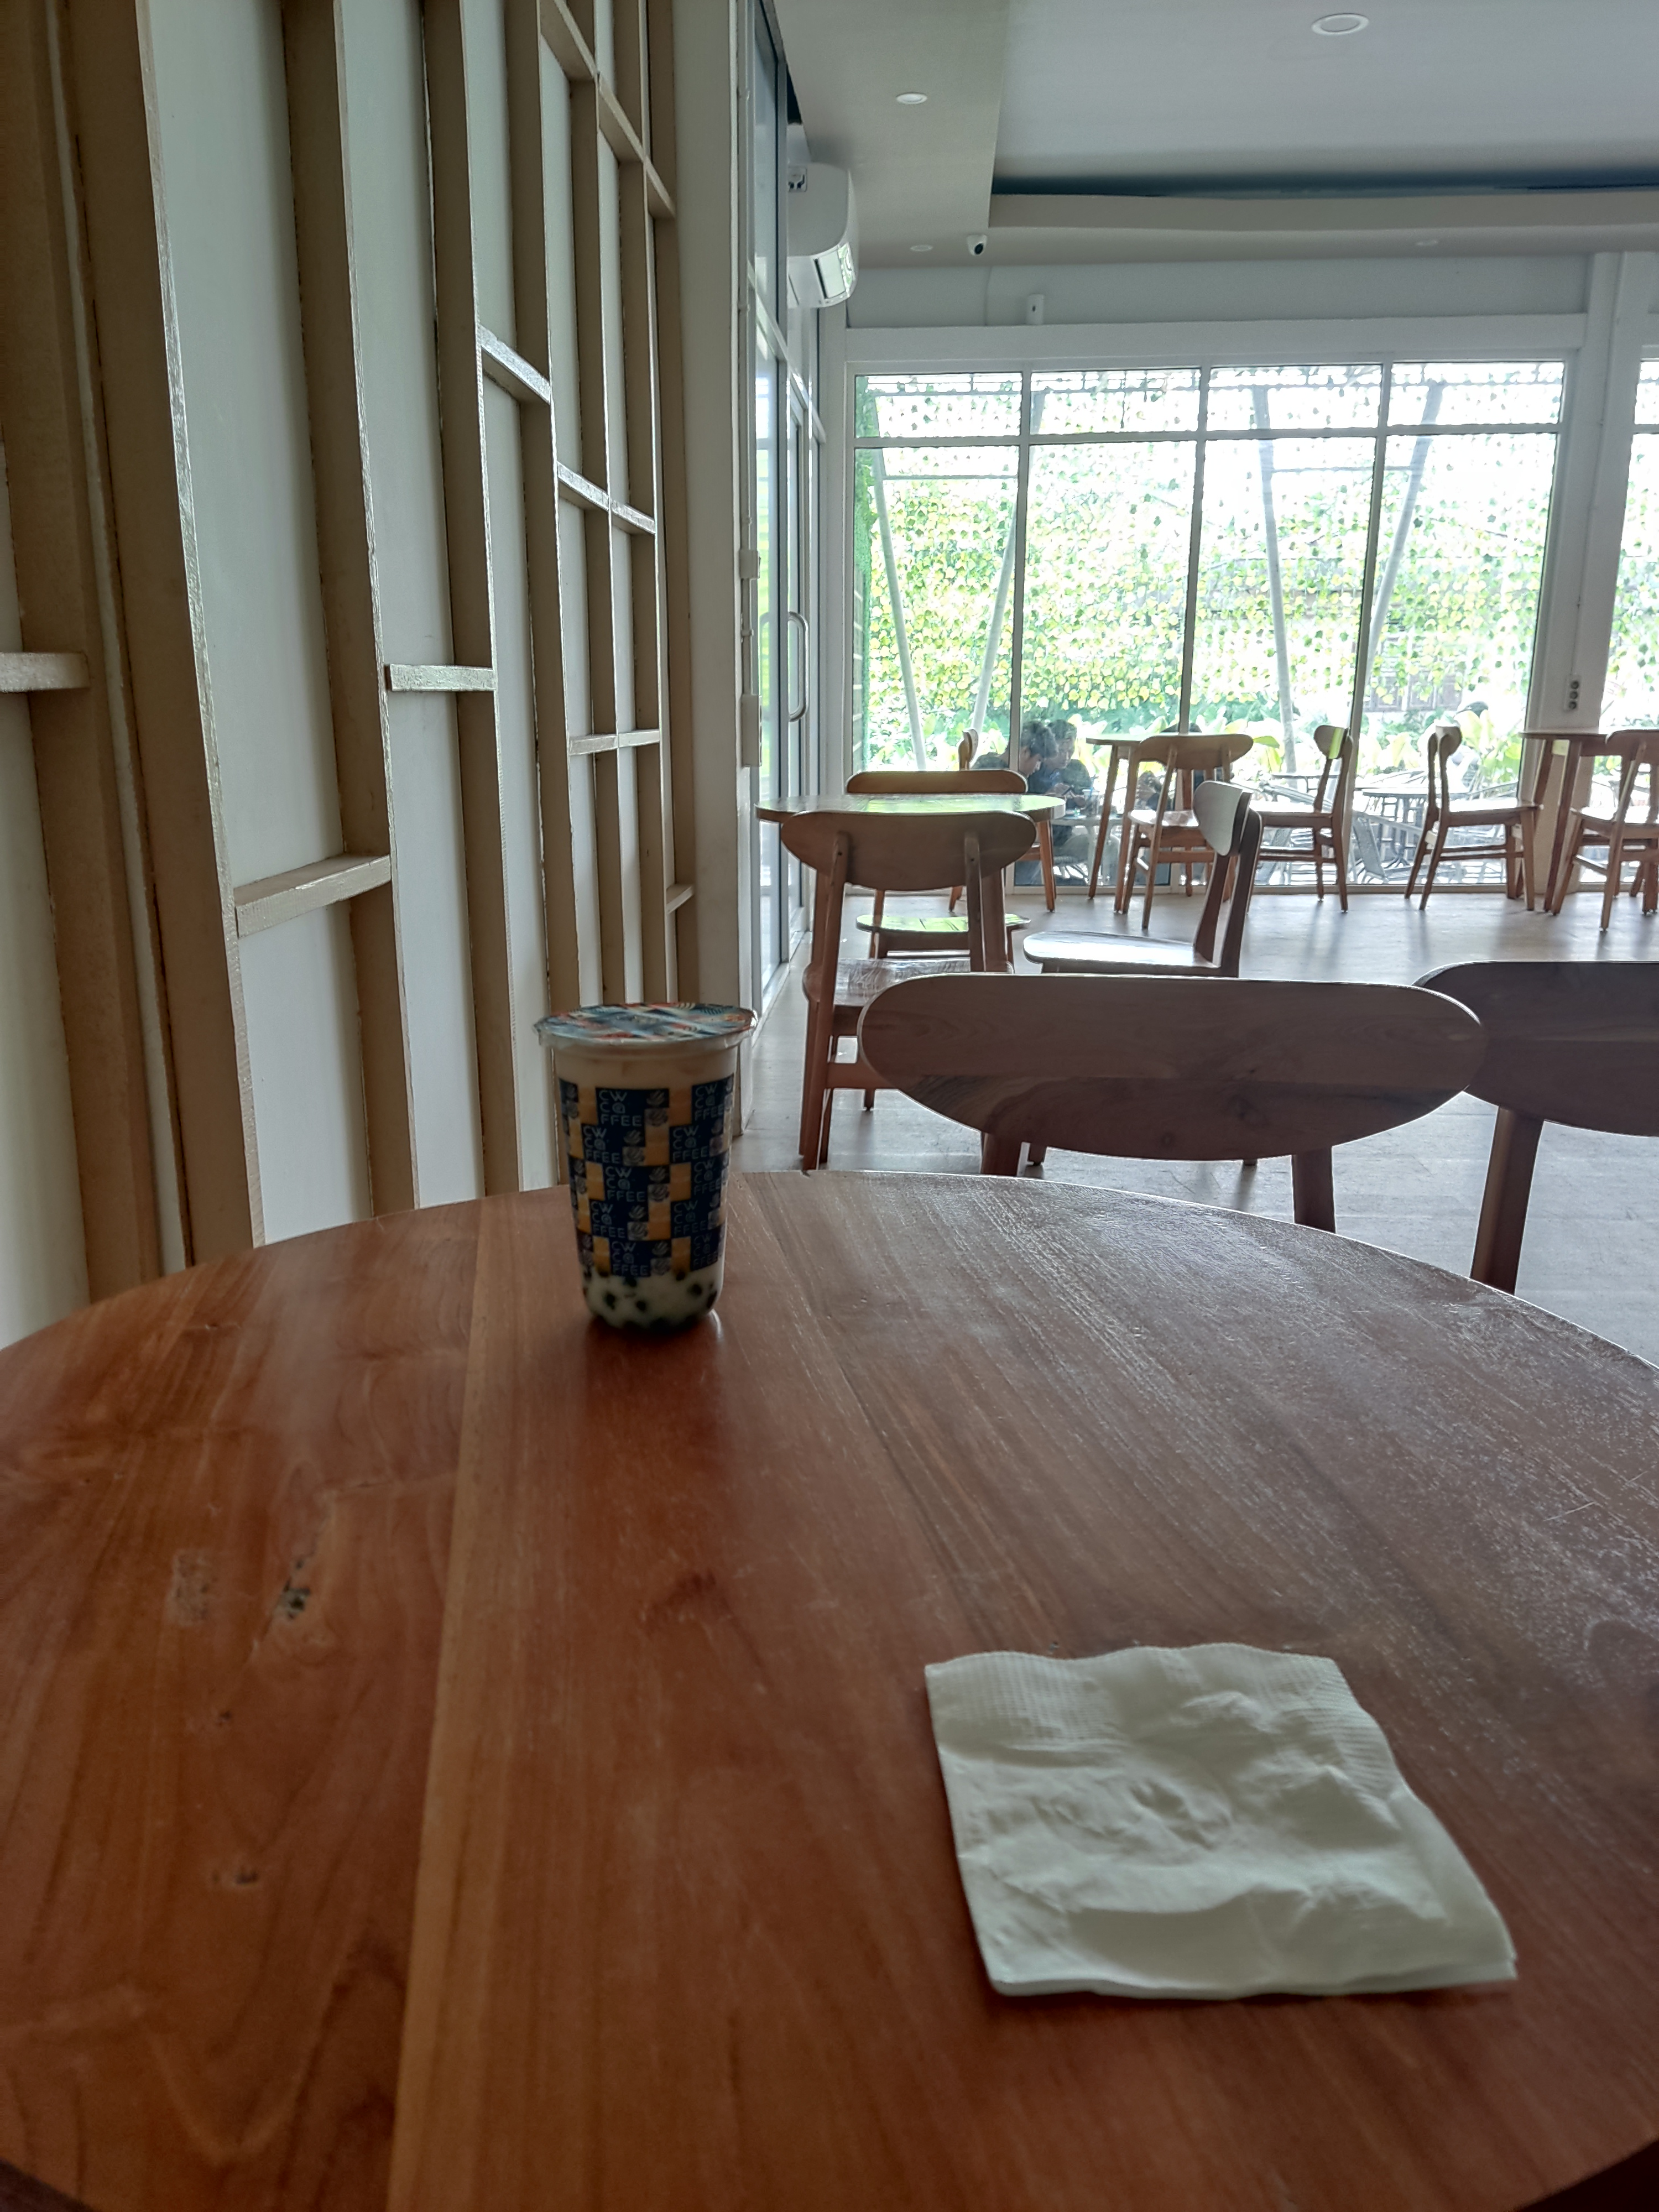Gelas CW: (535, 1007, 758, 1332)
